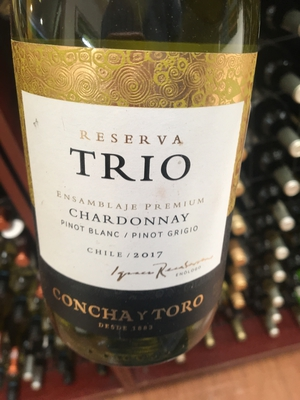trio chardonnay: (8, 6, 265, 356)
